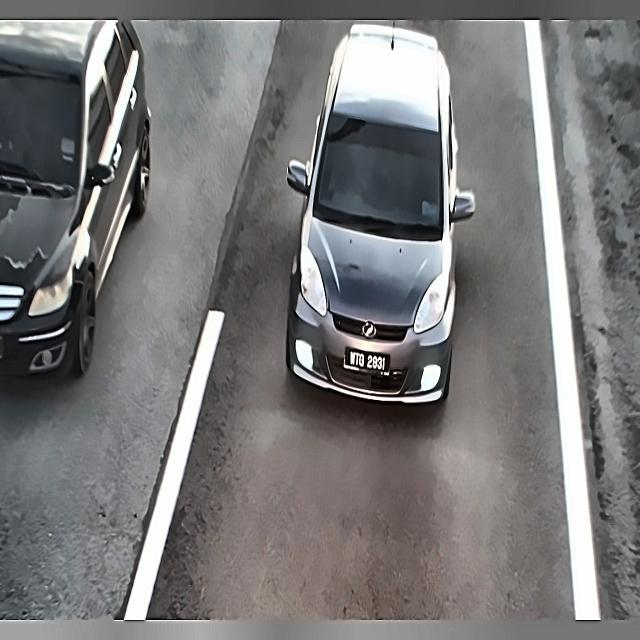car: (340, 338, 394, 383)
